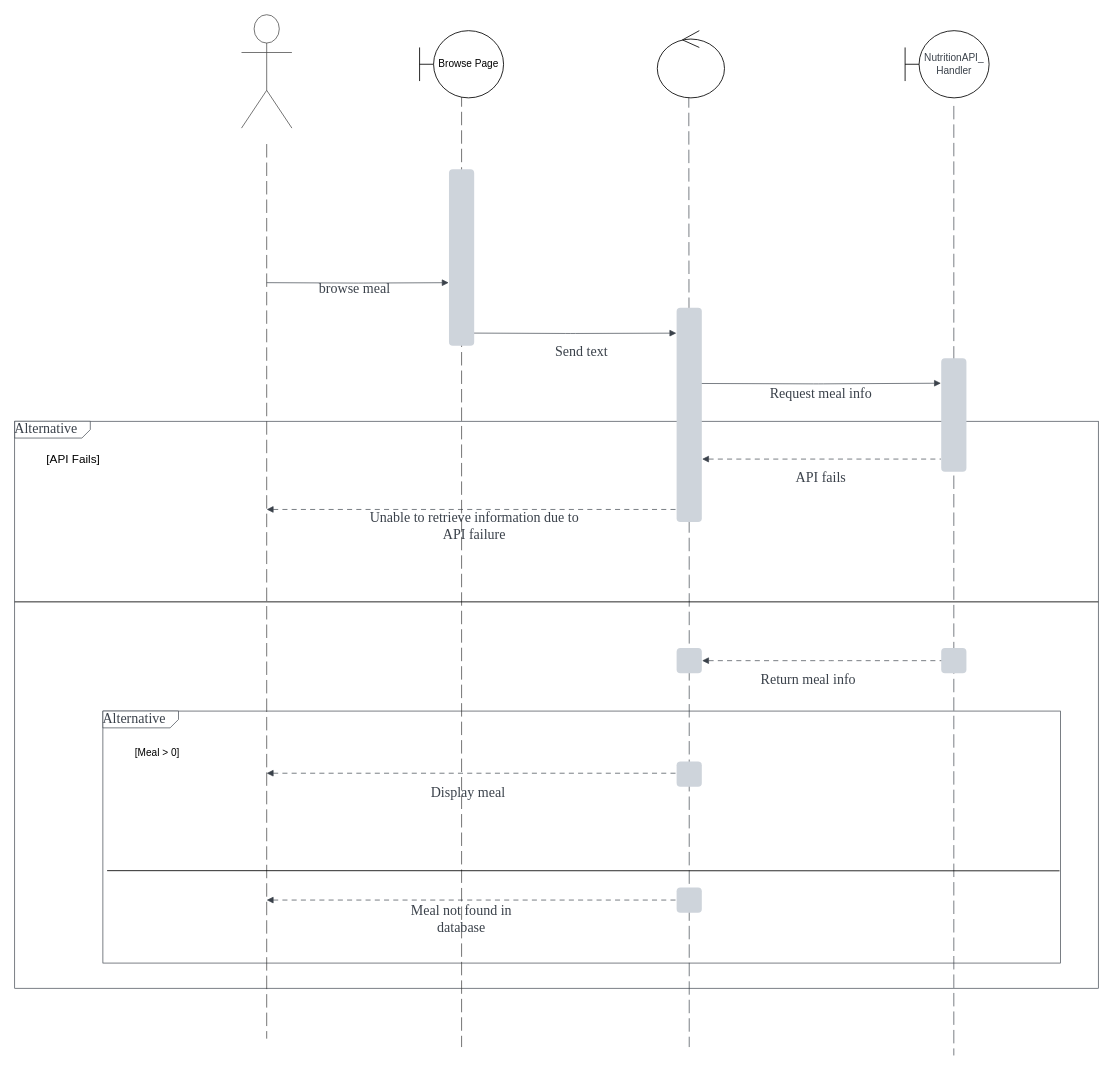
Some shapes in this 1114 by 1071 pixel diagram are drawn without their labels. The centre of each missing label's shape, as x and y in pixels:
"Actor" belongs at pixel 266 71.
"Meal Browser" belongs at pixel 690 64.
